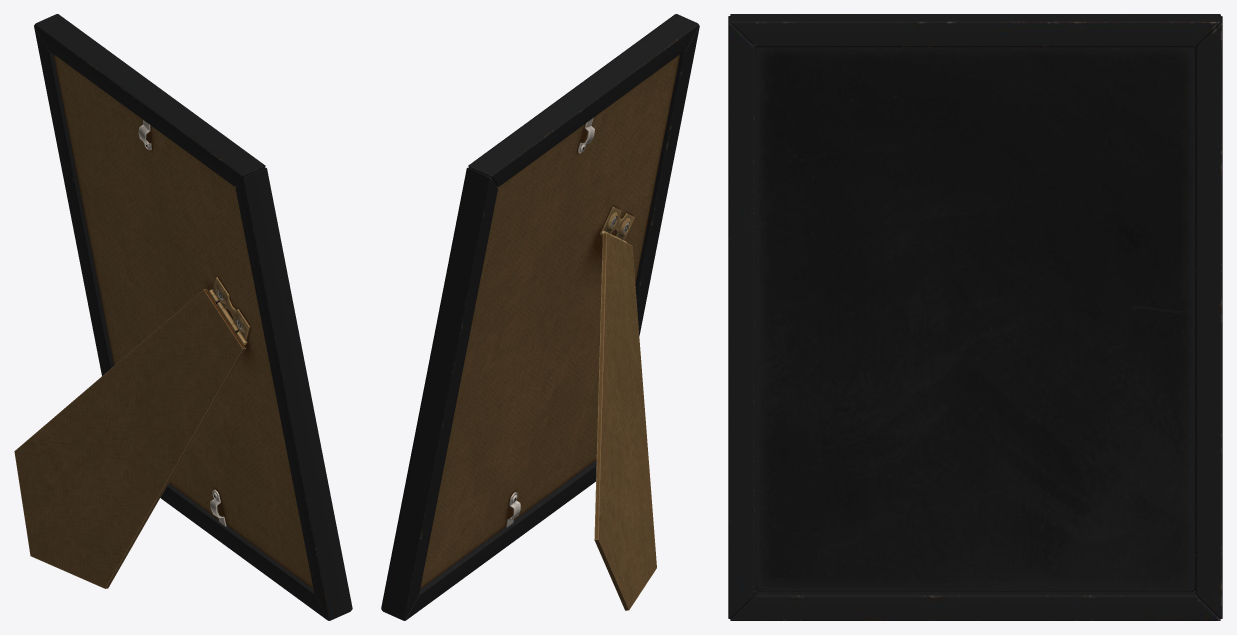
File: standing_picture_frame_01_lod1.glb
3 renders of one model, left to right at view 1: azimuth 30°, elevation 25°; view 2: azimuth 150°, elevation 25°; view 3: azimuth 270°, elevation 25°, orthographic. The views are drawn at different scales.
Parts seen in each view (by area): view 1: standing_picture_frame_01; view 2: standing_picture_frame_01; view 3: standing_picture_frame_01.
Part boxes in pixels (x1,y1,x2,y2): standing_picture_frame_01: [14, 14, 352, 620]; standing_picture_frame_01: [381, 14, 699, 620]; standing_picture_frame_01: [728, 14, 1222, 620].
Size of the model in its own units: 0.1003 by 0.2497 by 0.2008.
Materials: 3 (3 with a texture image).
